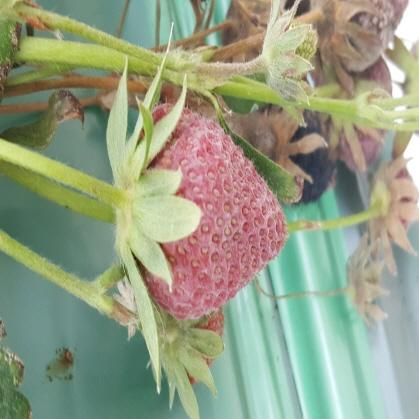Powdery Mildew Fruit: (115, 101, 290, 322)
